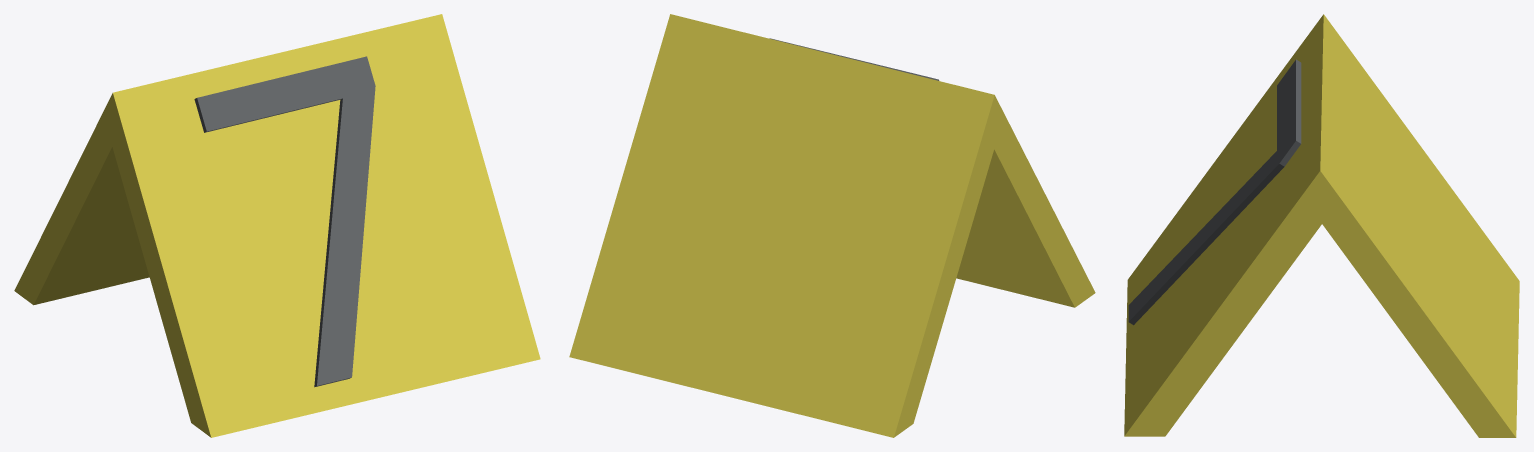
The model's file is bord7.gltf.
3 views of the same model, side by side, from view 1: azimuth 30°, elevation 25°; view 2: azimuth 150°, elevation 25°; view 3: azimuth 270°, elevation 25° (orthographic).
Parts seen in each view (by area): view 1: Mesh_Mesh_head_geo.001_lambert2SG.001; view 2: Mesh_Mesh_head_geo.001_lambert2SG.001; view 3: Mesh_Mesh_head_geo.001_lambert2SG.001.
Part boxes in pixels (<box>): Mesh_Mesh_head_geo.001_lambert2SG.001: <box>14,14,540,437</box>; Mesh_Mesh_head_geo.001_lambert2SG.001: <box>569,14,1095,437</box>; Mesh_Mesh_head_geo.001_lambert2SG.001: <box>1124,14,1519,437</box>.
Size of the model in its own units: 19.09 by 15 by 20.17.
